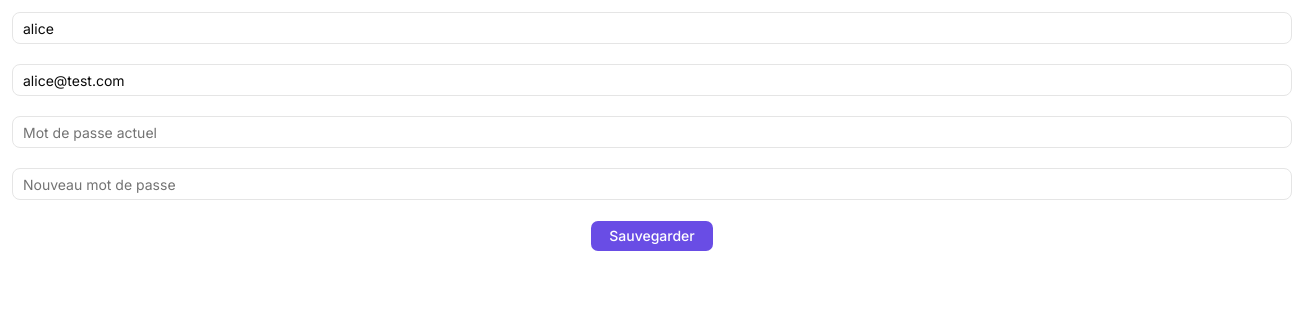
ProfileForm › clears the password fields after a successful update
Type "Password123!" into the password field labelled "Mot de passe actuel".
click(652, 132); type("Password123!")  # box [12,116,1292,148]
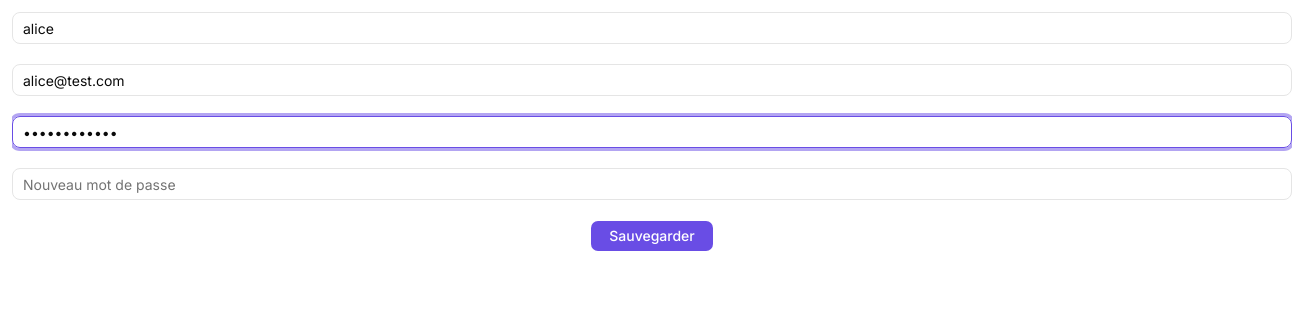
Type "NewPassword1!" into the password field labelled "Nouveau mot de passe".
click(652, 184); type("NewPassword1!")  # box [12,168,1292,200]
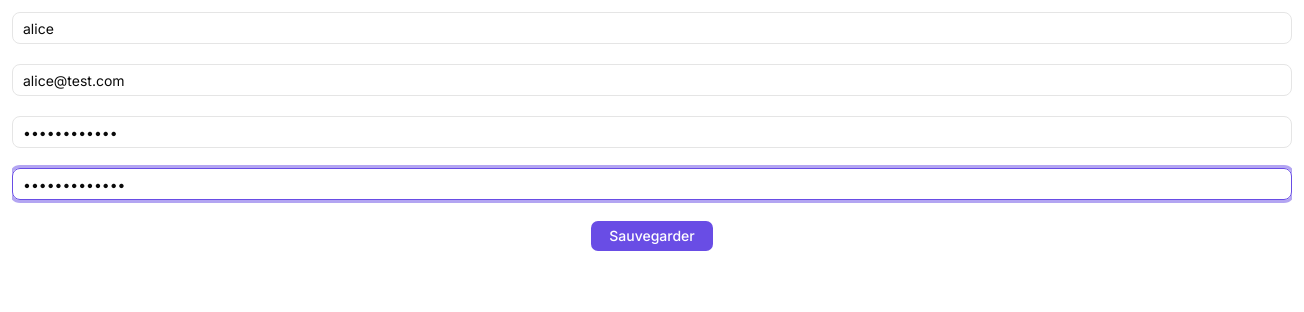
Click the button "Sauvegarder".
click(652, 236)  # box [590,220,714,252]
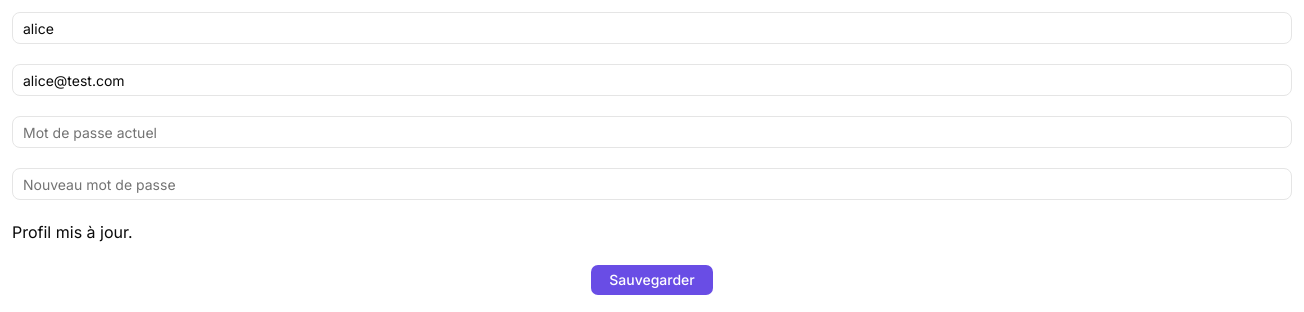
expect the text "Profil mis à jour." is shown: met, box [12,222,133,242]
expect the password field labelled "Mot de passe actuel" is empty: met, box [12,116,1292,148]
expect the password field labelled "Nouveau mot de passe" is empty: met, box [12,168,1292,200]
